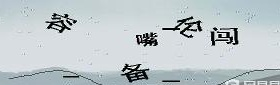chinese: (47, 7, 76, 34), (121, 61, 153, 85), (175, 14, 203, 39), (210, 26, 242, 47), (136, 29, 161, 49)
